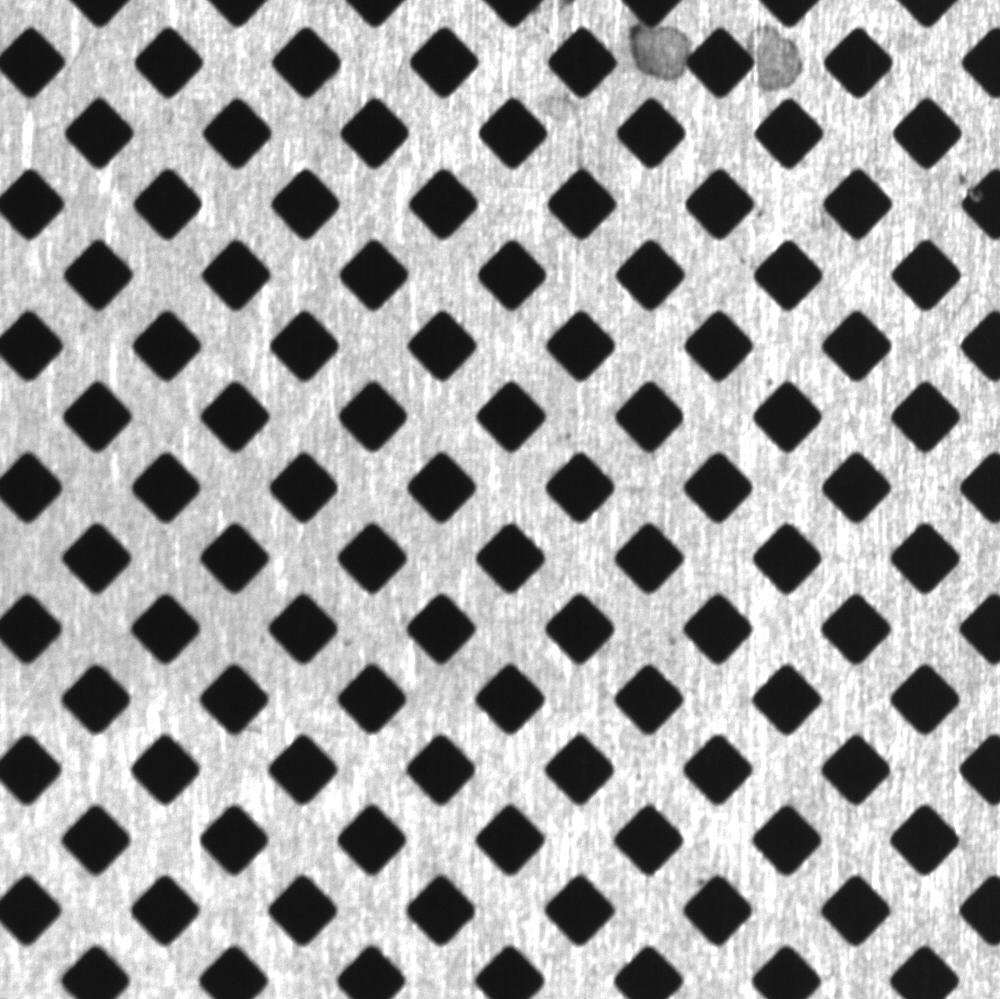Discolor: (749, 18, 823, 104), (619, 11, 694, 92)
